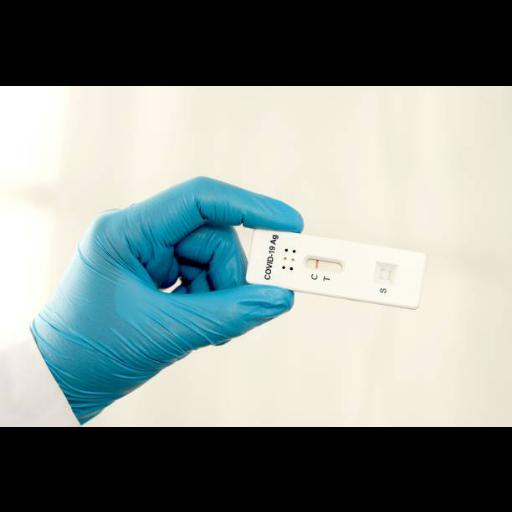Neg: (245, 225, 427, 309)
